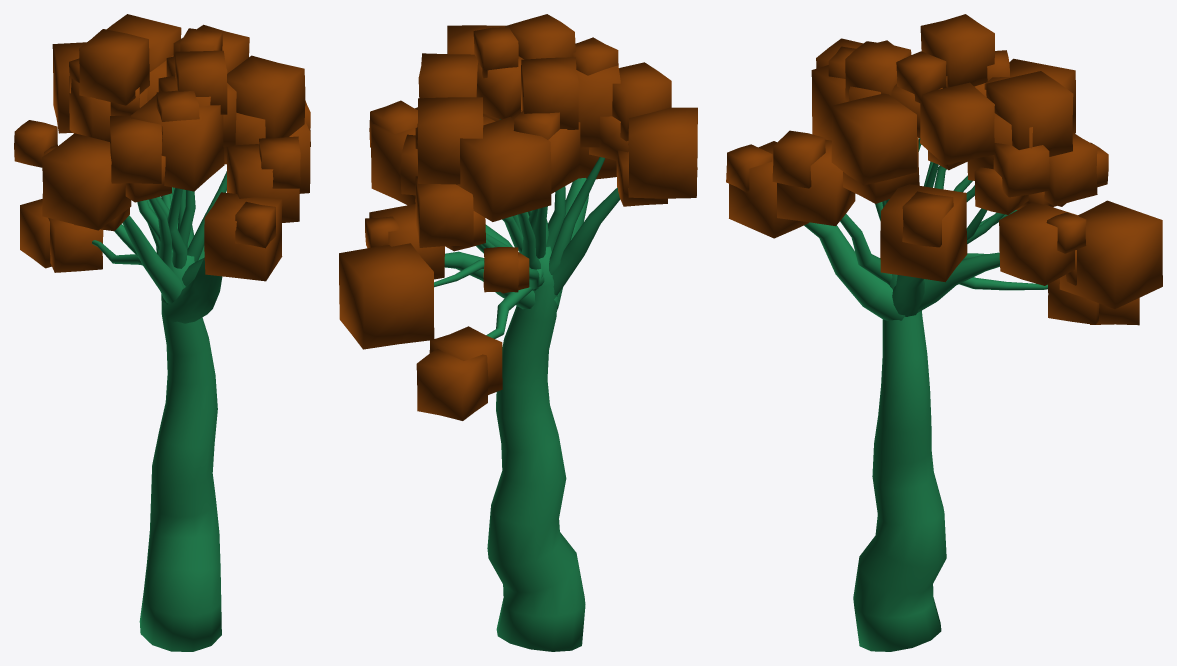
File: RobertTree.fbx
The picture shows the model from 3 angles, left to right: view 1: azimuth 30°, elevation 25°; view 2: azimuth 150°, elevation 25°; view 3: azimuth 270°, elevation 25°; orthographic projection. The views are drawn at different scales.
Visible parts, largest first — view 1: merge1; view 2: merge1; view 3: merge1.
Boxes of the visible parts, x1,y1,x2,y2 form: merge1: [14, 14, 310, 651]; merge1: [339, 14, 697, 651]; merge1: [726, 14, 1162, 651].
Bounding box in the file's own units: 15.78 × 30.51 × 20.26.
